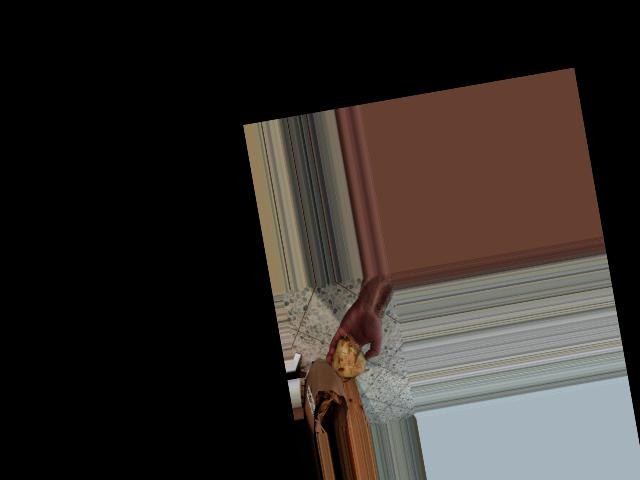onion: (325, 333, 369, 385)
